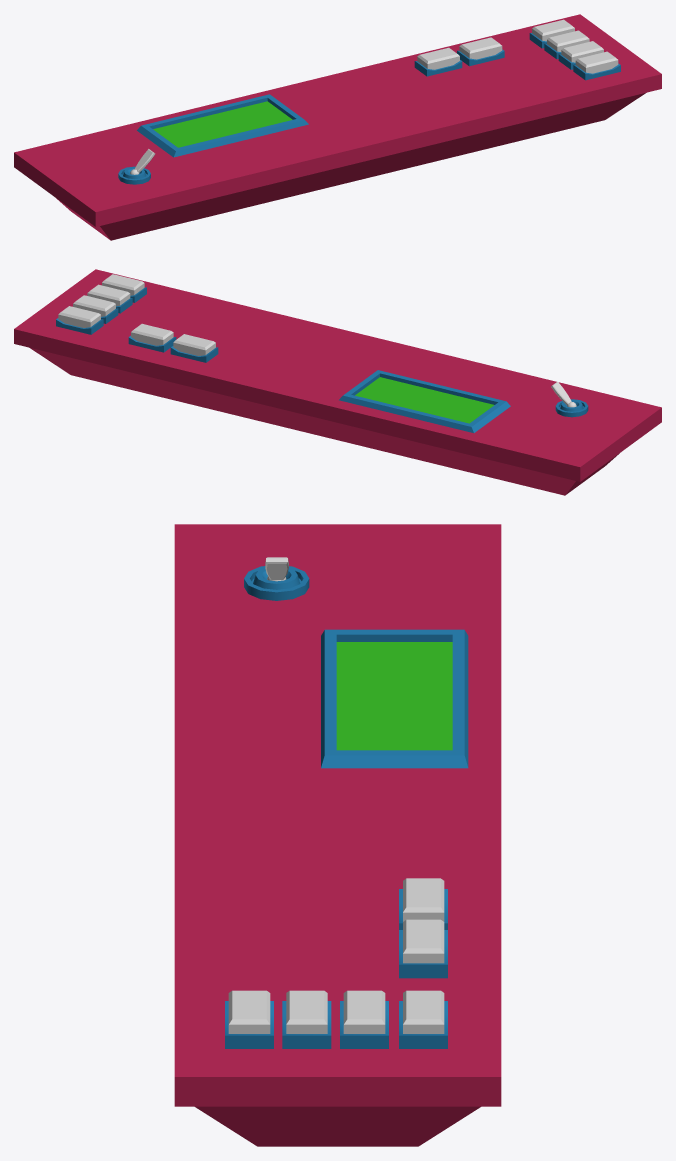
Rendered from pannel_button.fbx.
3 renders of one model, top to bottom at view 1: azimuth 30°, elevation 25°; view 2: azimuth 150°, elevation 25°; view 3: azimuth 270°, elevation 25°, orthographic. The views are drawn at different scales.
Parts seen in each view (by area): view 1: Plane016, Object032, Object028, Object033, Object029, Object030, Object031; view 2: Plane016, Object032, Object033, Object029, Object030, Object031, Object028; view 3: Plane016, Object028, Object030, Object032, Object031, Object029, Object033.
Boxes of the visible parts, left/top/right/bottom form: Plane016: left=14, top=14, right=661, bottom=240; Object032: left=459, top=37, right=502, bottom=59; Object028: left=575, top=51, right=618, bottom=73; Object033: left=417, top=47, right=459, bottom=69; Object029: left=532, top=19, right=574, bottom=41; Object030: left=547, top=30, right=589, bottom=51; Object031: left=561, top=41, right=603, bottom=62; Plane016: left=14, top=269, right=661, bottom=495; Object032: left=131, top=323, right=173, bottom=345; Object033: left=173, top=334, right=215, bottom=355; Object029: left=58, top=306, right=100, bottom=327; Object030: left=73, top=295, right=115, bottom=316; Object031: left=87, top=284, right=130, bottom=306; Object028: left=102, top=274, right=144, bottom=295; Plane016: left=174, top=524, right=501, bottom=1146; Object028: left=228, top=990, right=270, bottom=1033; Object030: left=343, top=990, right=385, bottom=1033; Object032: left=403, top=919, right=444, bottom=963; Object031: left=286, top=990, right=327, bottom=1033; Object029: left=403, top=990, right=444, bottom=1033; Object033: left=403, top=878, right=444, bottom=921.
Size of the model in its own units: 0.4 by 0.0508 by 0.1.
